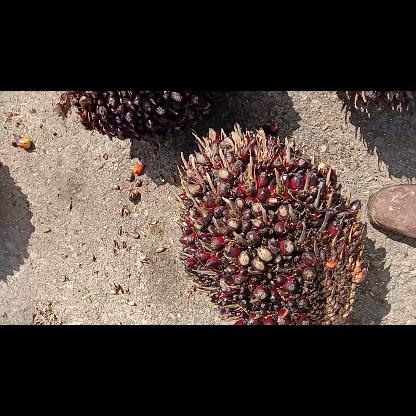TBS mentah: (178, 124, 368, 324), (76, 91, 210, 141)
